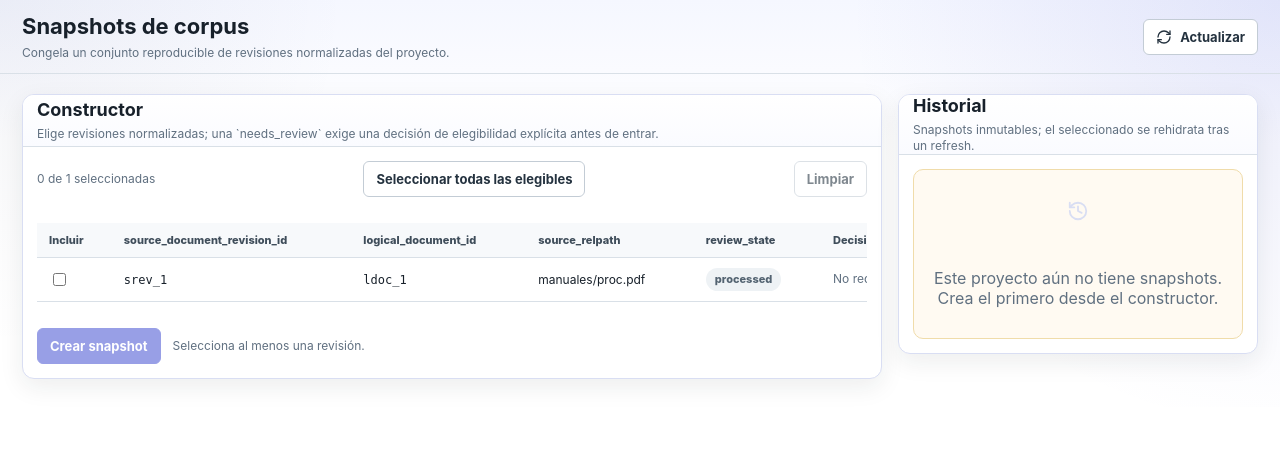
Scenario: CorpusSnapshotWorkspace › ante 409 cross-project surfacea un mensaje fail-closed
Step 1. Click the checkbox named "Incluir revisión srev_1" → (60, 280), box [53,273,66,286]
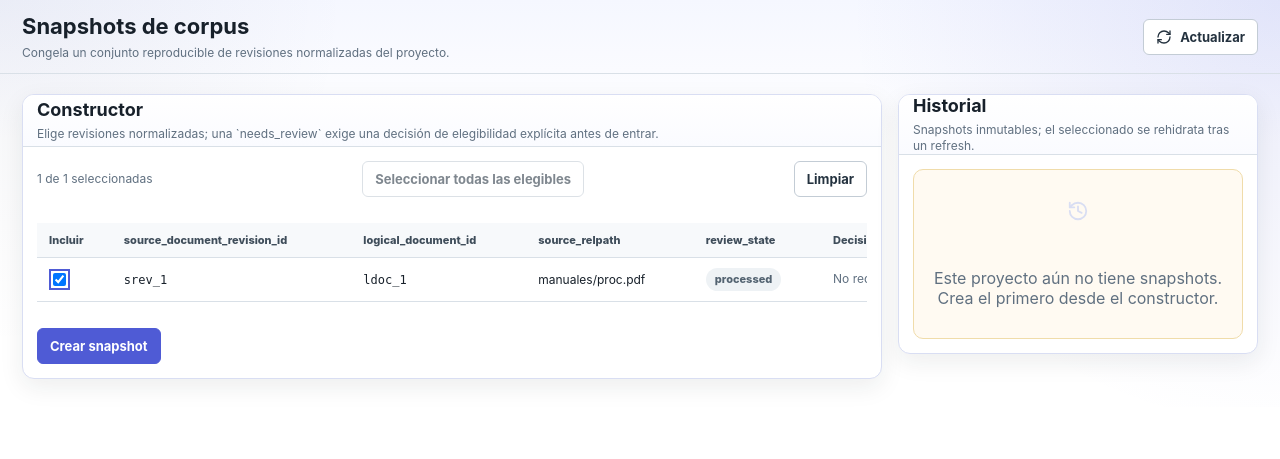
Step 2. Click the button "Crear snapshot" → (99, 346), box [37,328,161,364]
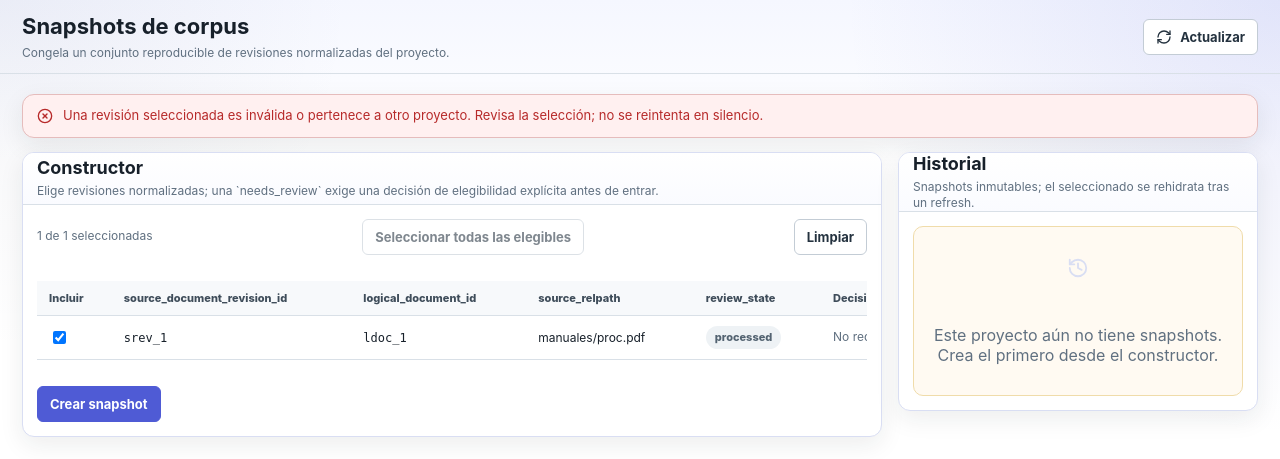
expect the text "inválida o pertenece a otro proyecto" is shown: met, box [63,107,763,123]
